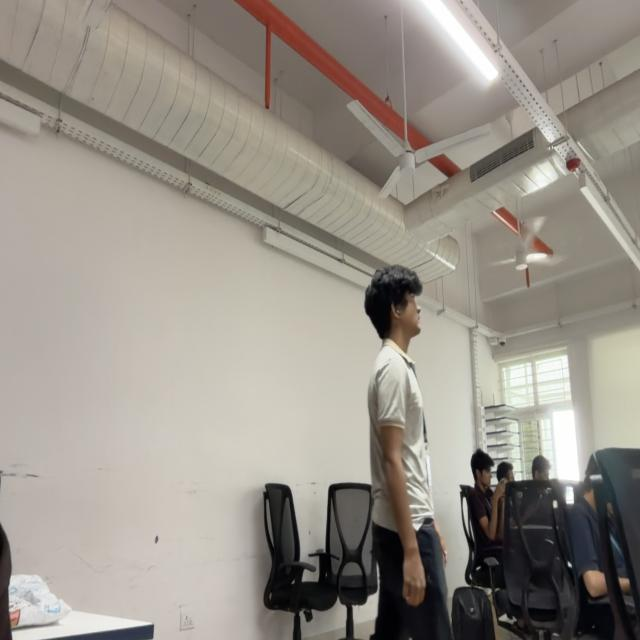kshitij: (363, 264, 423, 346)
